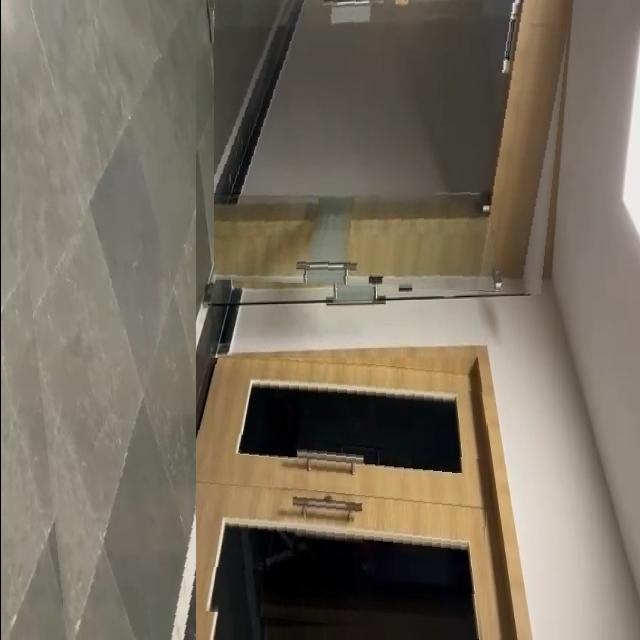door: (213, 0, 570, 294), (178, 358, 487, 640)
floor: (0, 0, 195, 640)
